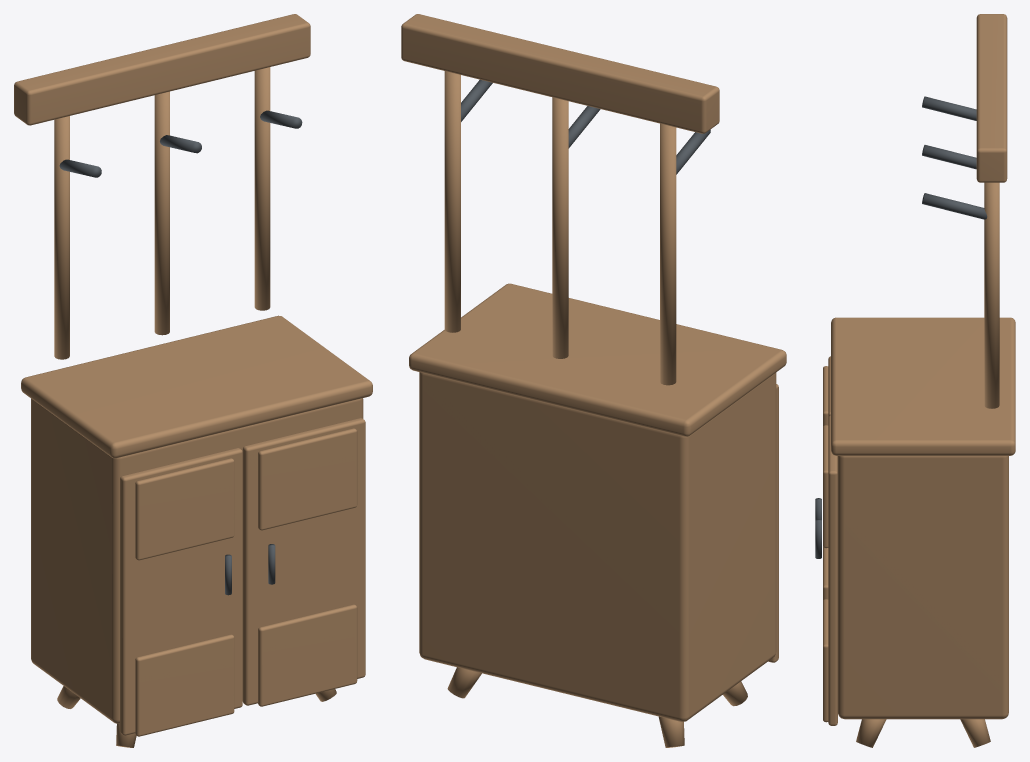
File: atelier-entryway-organizer.glb
3 views of the same model, side by side, from view 1: azimuth 30°, elevation 25°; view 2: azimuth 150°, elevation 25°; view 3: azimuth 270°, elevation 25° (orthographic). The views are drawn at different scales.
Parts seen in each view (by area): view 1: legs.098, metal.039; view 2: legs.098, metal.039; view 3: legs.098, metal.039.
Boxes of the visible parts, x1=… form: legs.098: x1=14, y1=14, x2=372, y2=747; metal.039: x1=59, y1=110, x2=302, y2=595; legs.098: x1=401, y1=14, x2=786, y2=747; metal.039: x1=461, y1=79, x2=710, y2=174; legs.098: x1=823, y1=14, x2=1015, y2=747; metal.039: x1=815, y1=96, x2=987, y2=558.
Bounding box in the file's own units: 0.85 × 1.79 × 0.5265.
